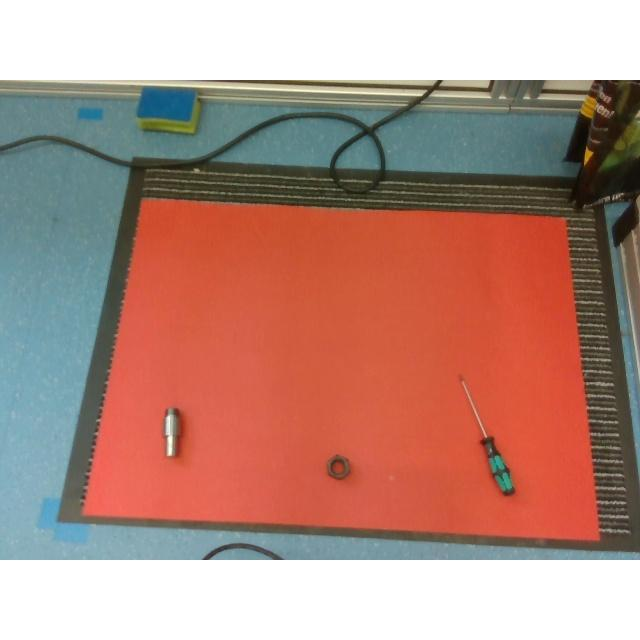Axis2: (162, 406, 182, 458)
M20: (326, 454, 352, 482)
Screwdriver: (458, 372, 518, 496)
